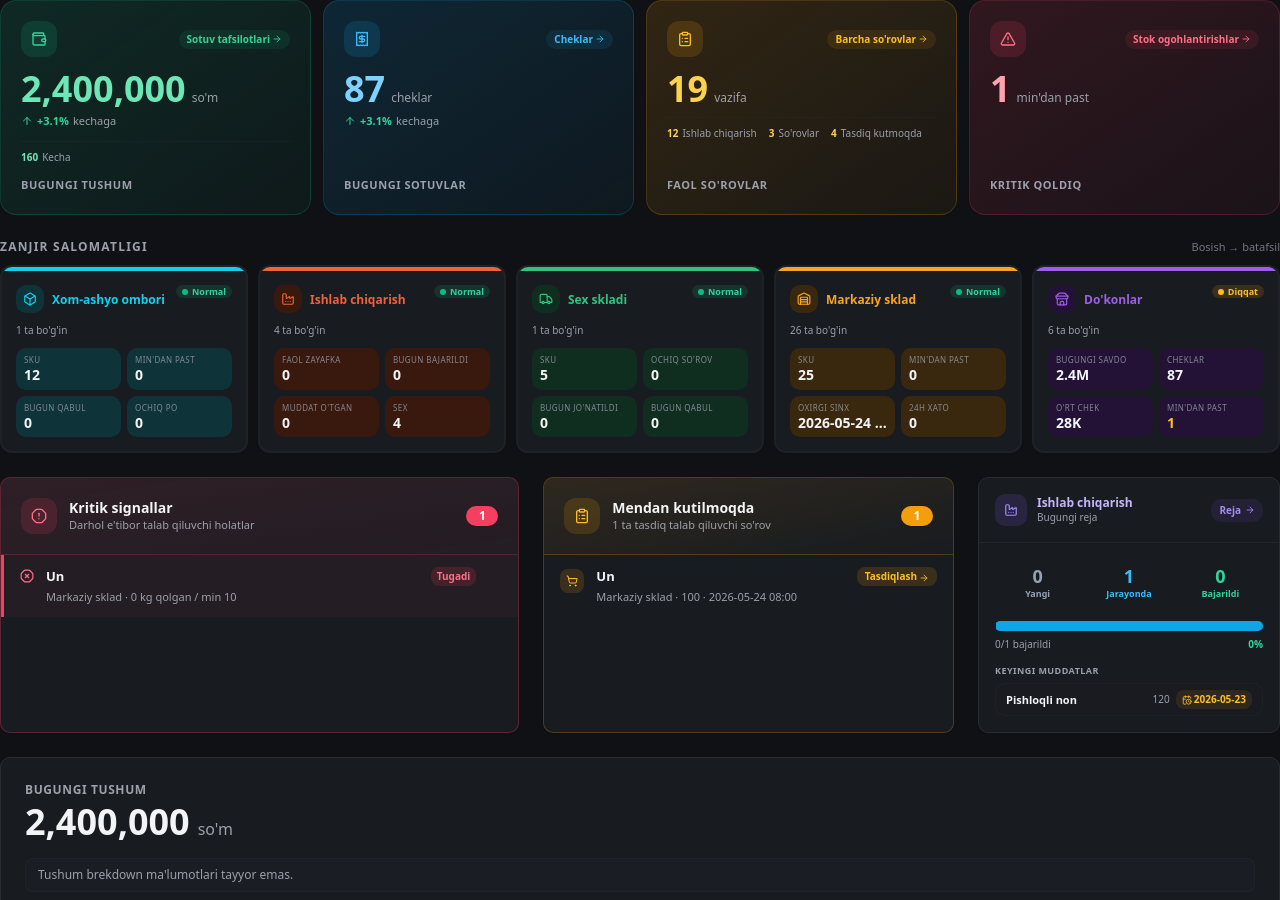
Test: ExecutiveDashboardPage — Variant B › opens the per-stage detail drawer when a chain card is clicked
Click the button with test id "chain-node-store". click: (1156, 359)
box: [1032, 265, 1279, 453]
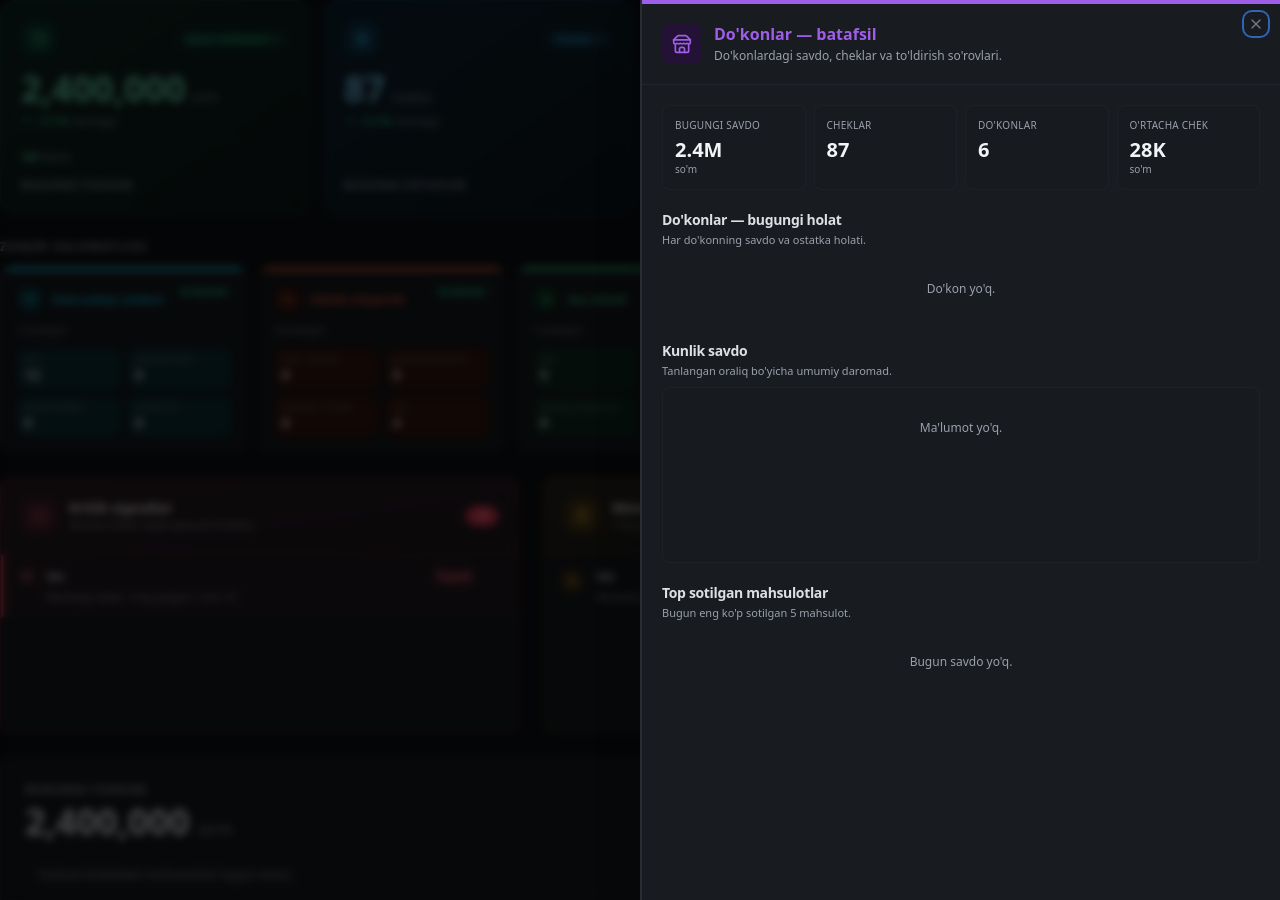
Check: the header with test id "chain-detail-header-store" is shown, box [642, 4, 1279, 85]
